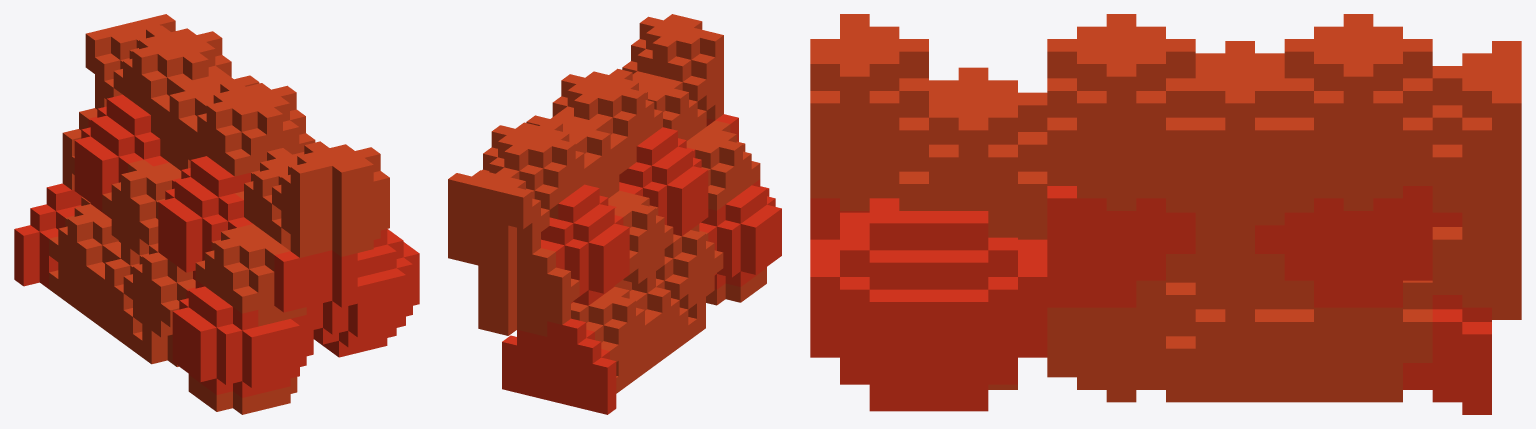
The model's file is exite1 (stone4).obj.
3 views of the same model, side by side, from view 1: azimuth 30°, elevation 25°; view 2: azimuth 150°, elevation 25°; view 3: azimuth 270°, elevation 25° (orthographic). The views are drawn at different scales.
Size of the model in its own units: 1.3 by 1.4 by 2.4.
1 material, 1 textured.
